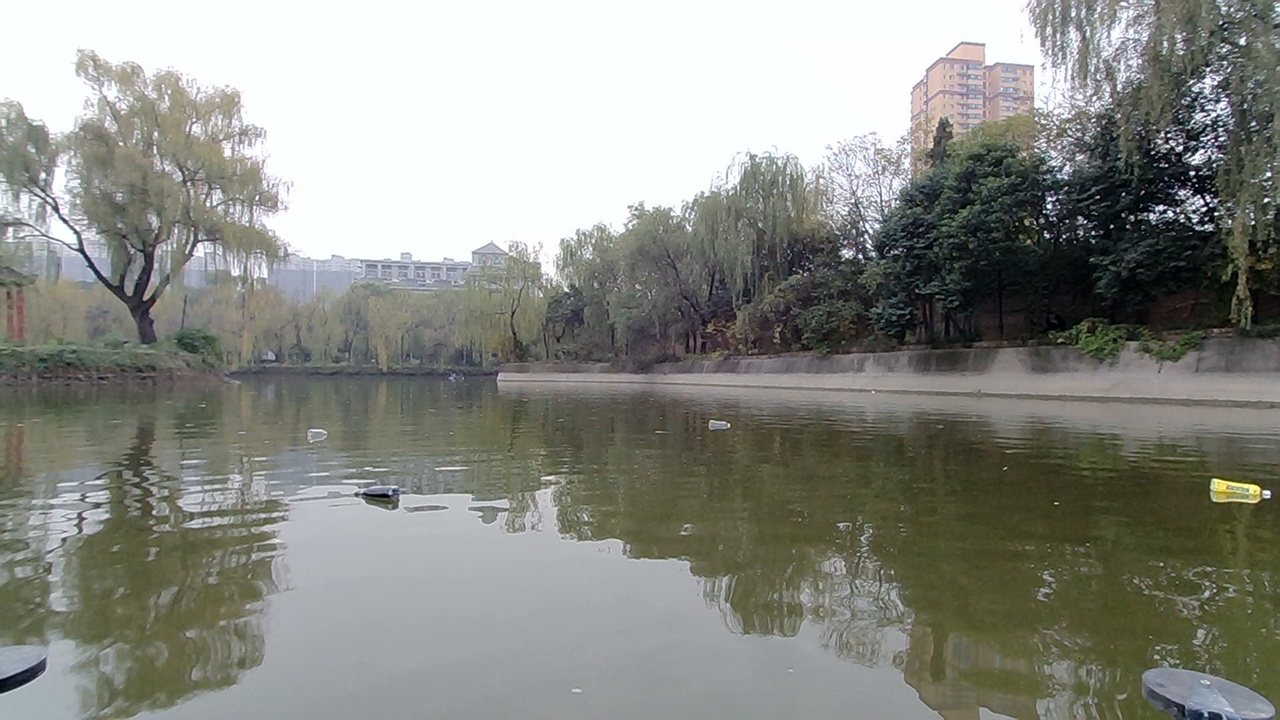bottle: (1209, 471, 1260, 510), (696, 400, 746, 435), (358, 481, 409, 515), (310, 423, 348, 460)
